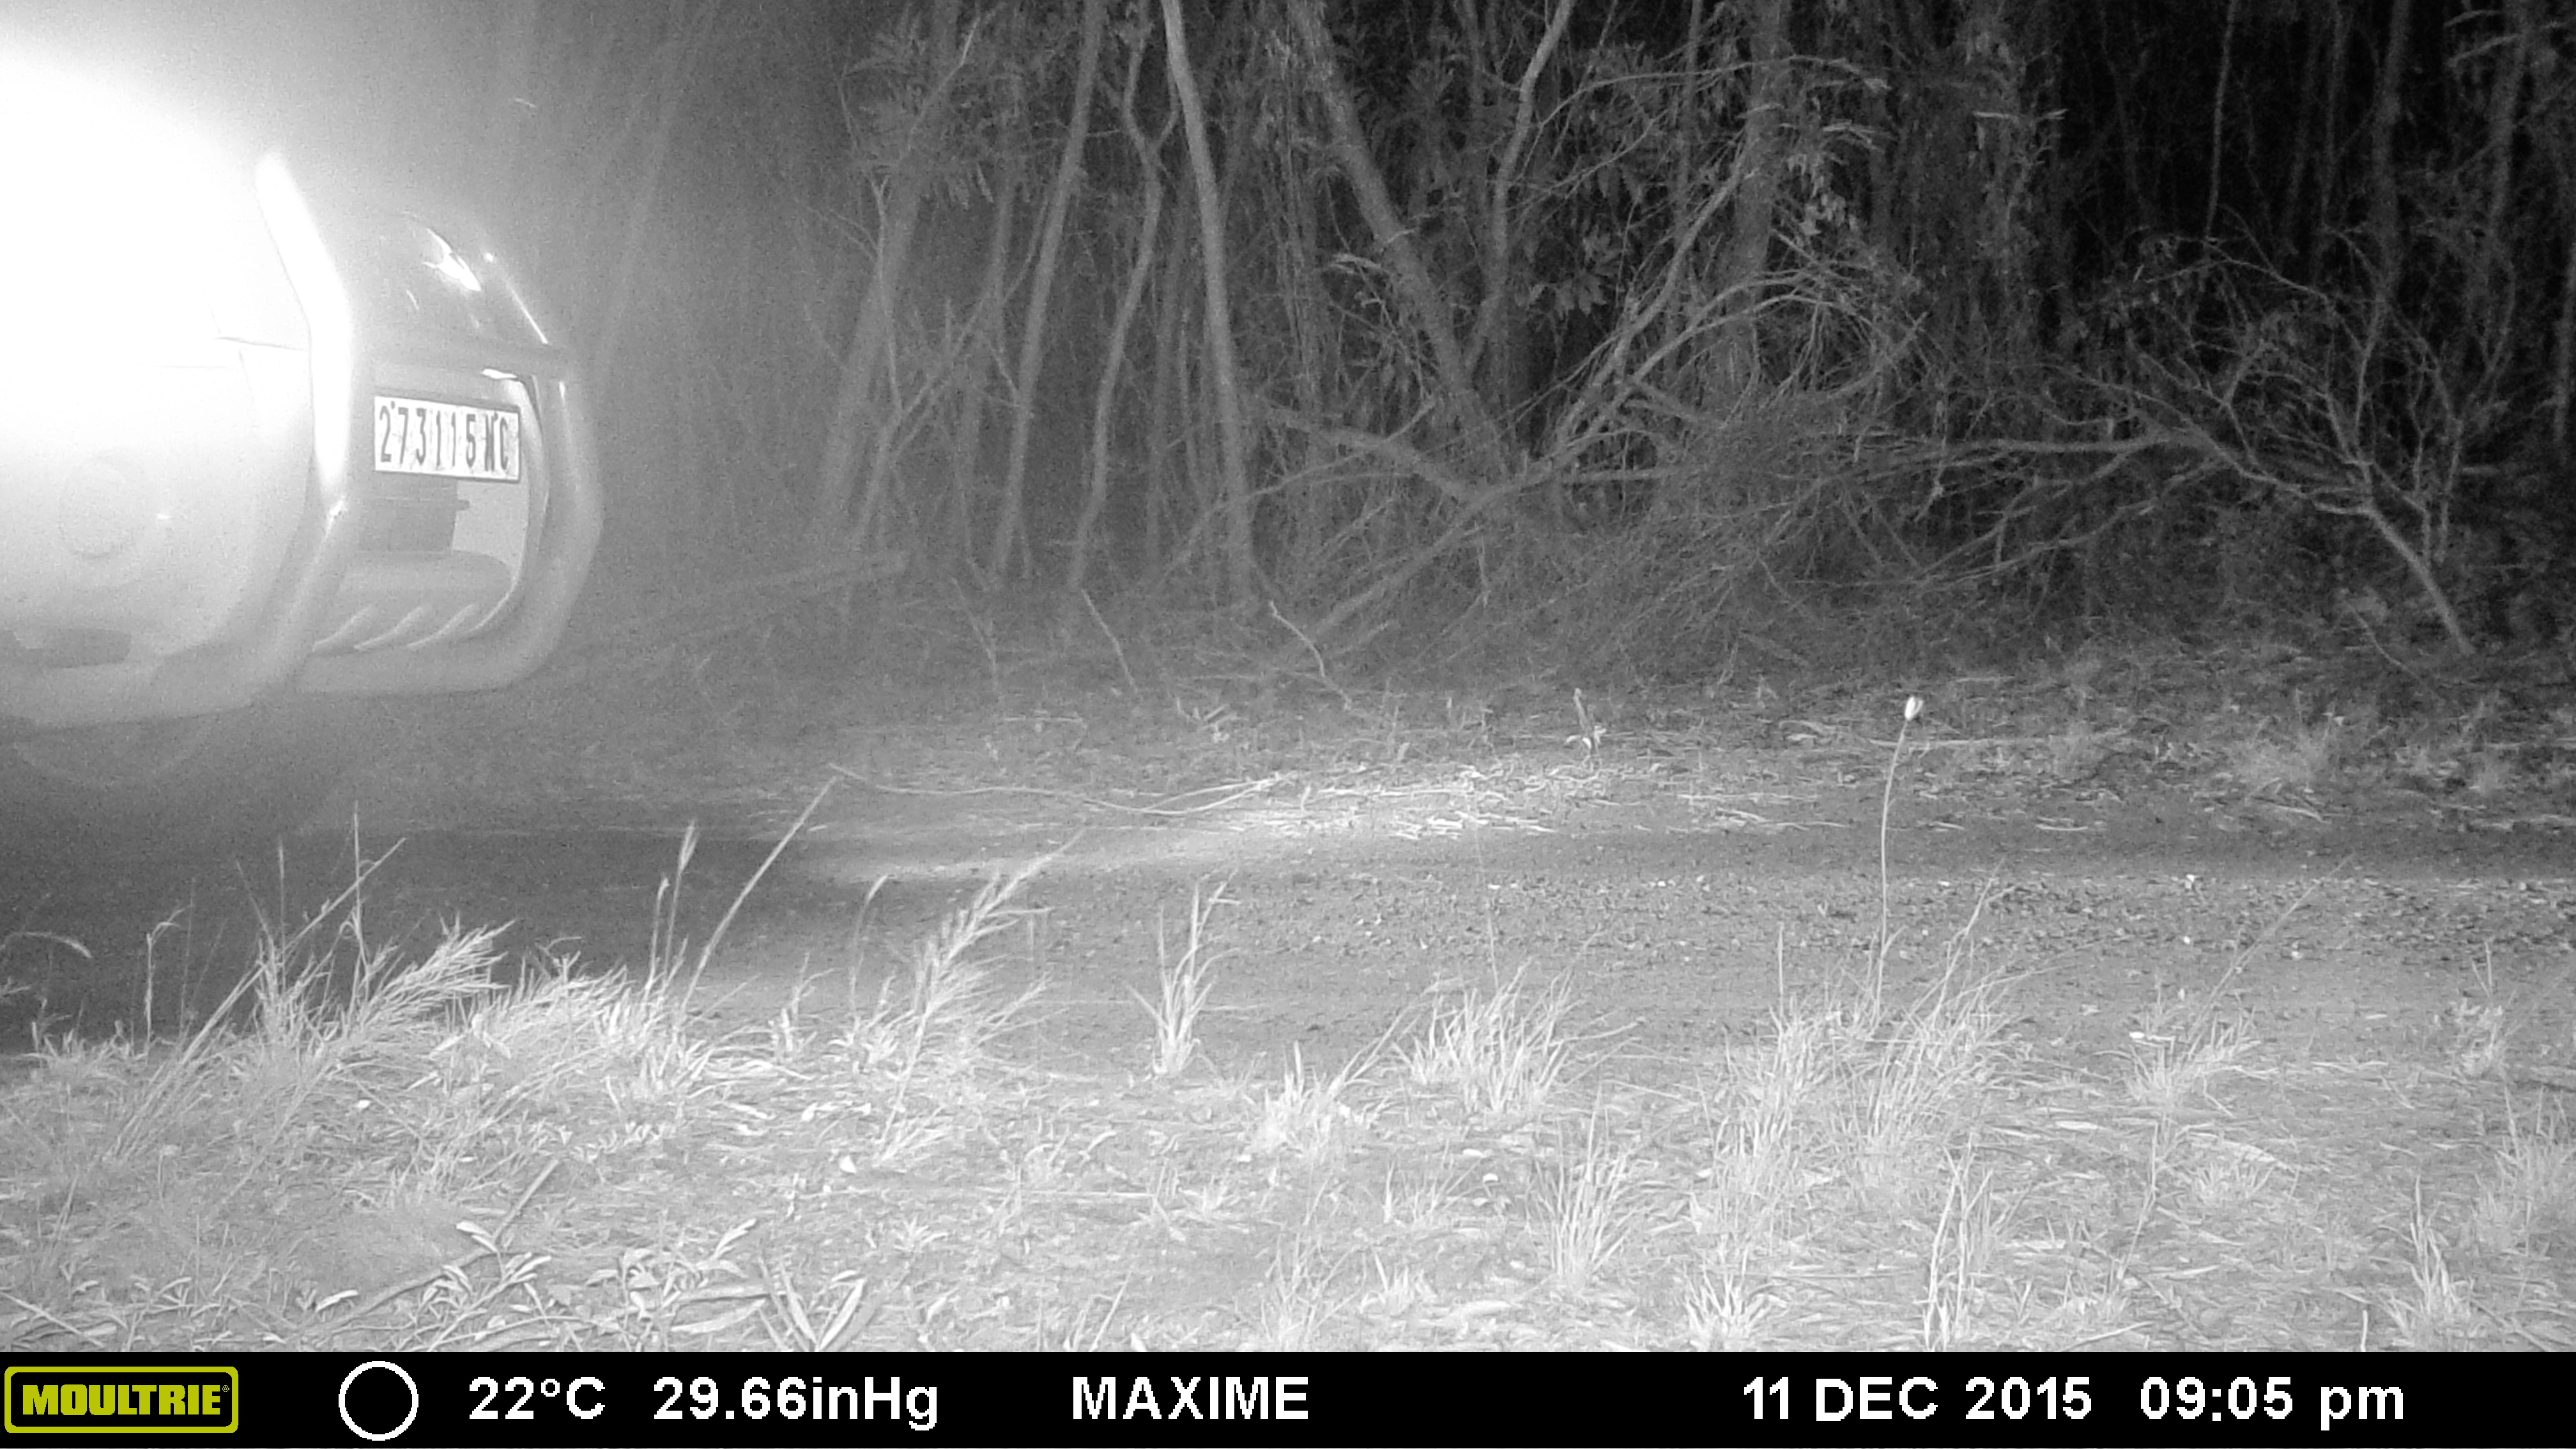Car: (4, 2, 609, 879)
